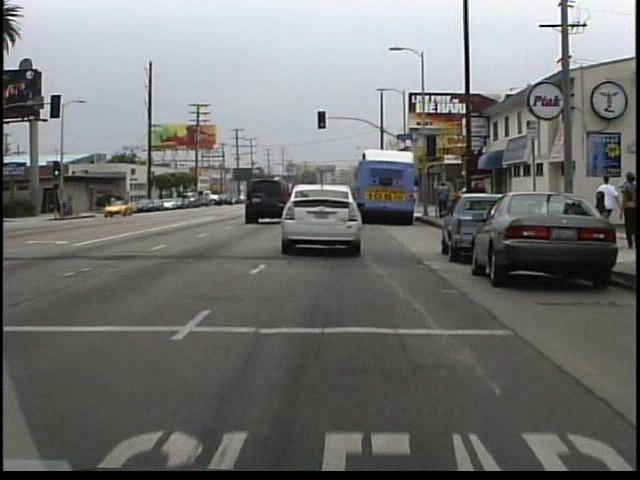person: (594, 170, 620, 238), (617, 171, 638, 249), (432, 181, 451, 219), (109, 193, 123, 217)
